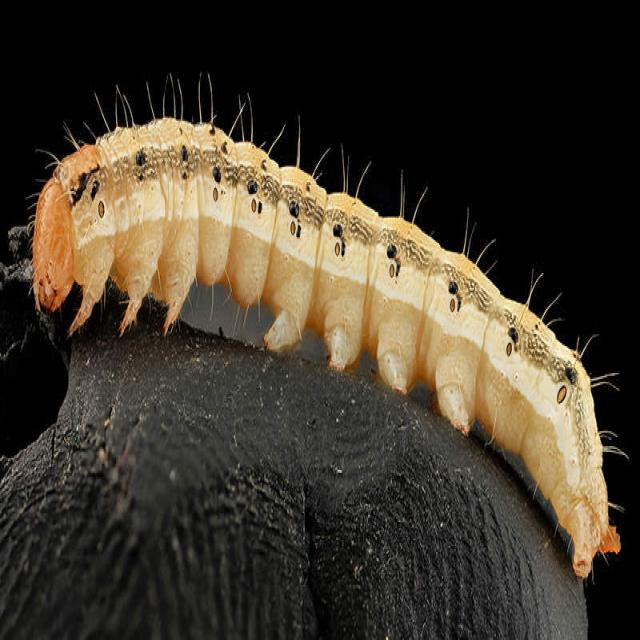worm: (28, 71, 629, 583)
